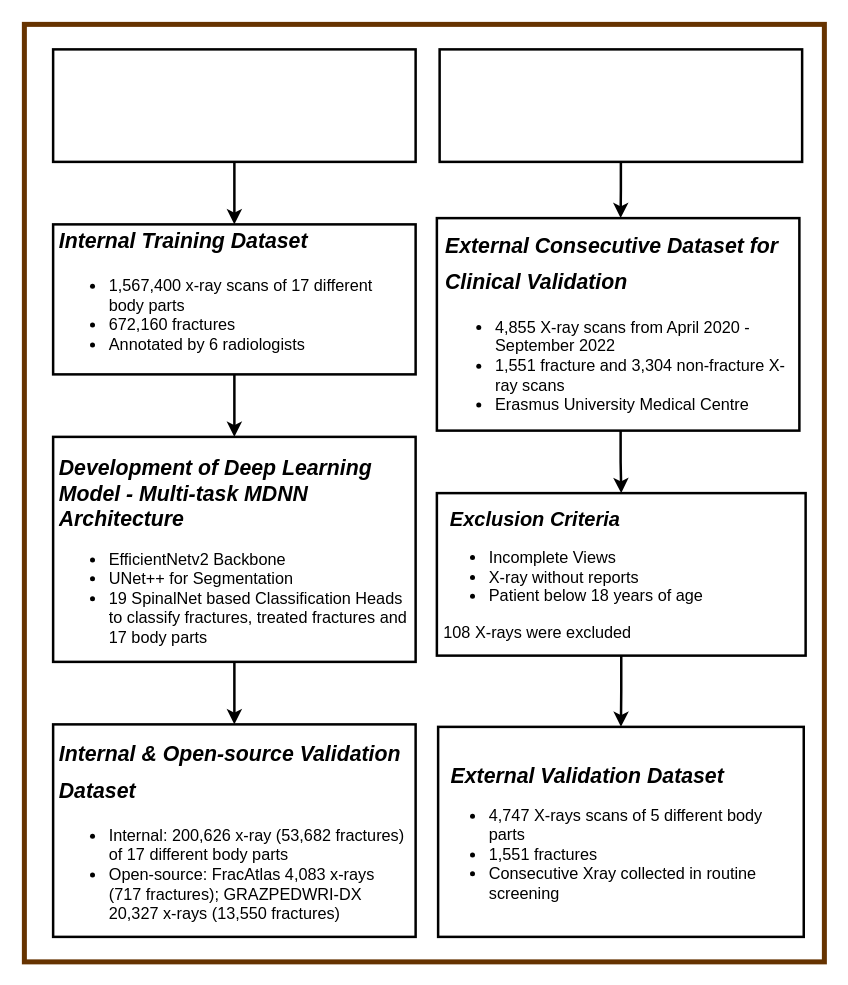
The diagram is 848 pixels wide and 985 high, and some of its shapes have lost their labels. The shapes that lost their labels are listed below. From the top down, each one's centre as x and y in pixels, then its label:
At pixel 233 105: "MDNN Model Development".
At pixel 620 105: "MDNN External Validation".
